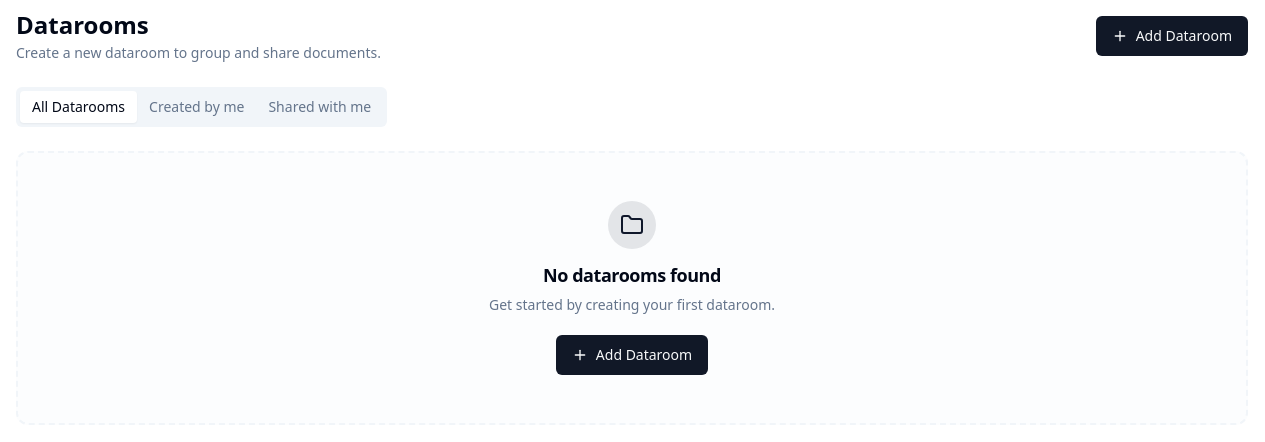
Test: DataroomsPage › should display dedicated empty state for shared_with_me scope without create button
Click the tab "Shared with me" at (320, 107), box [256,91,383,123]
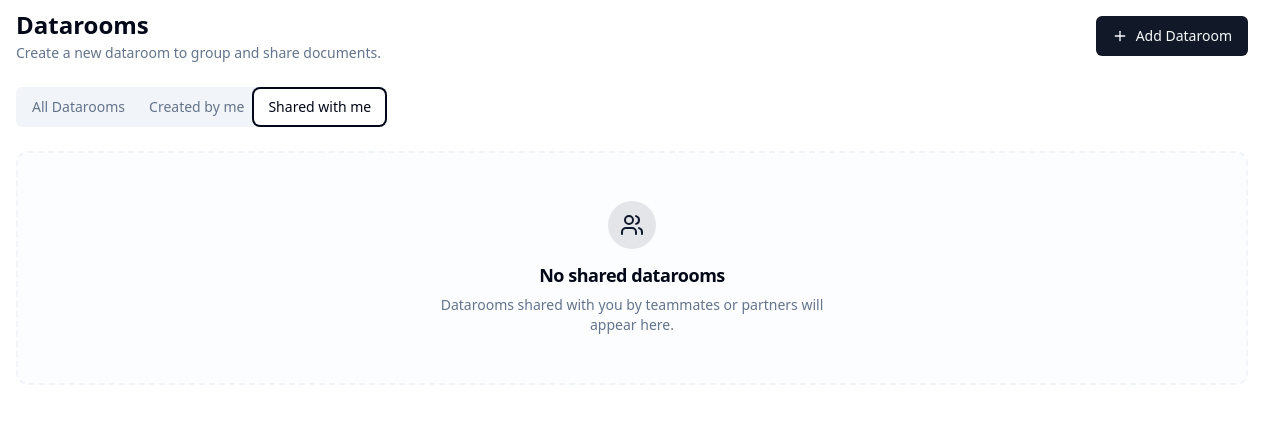
Expected: the number of buttons "Add Dataroom" is 1, [1096,16,1248,56]
Now the heading "No shared datarooms" is shown, box [539,261,725,289]
Now the text "Datarooms shared with you by teammates or partners will appear here" is shown, box [441,295,823,334]
